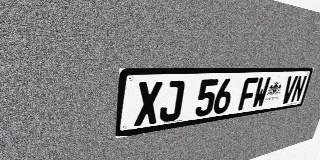5: (194, 79, 219, 117)
6: (212, 78, 235, 115)
F: (238, 77, 259, 111)
J: (158, 80, 185, 123)
N: (290, 75, 307, 103)
V: (280, 76, 298, 104)
W: (251, 77, 271, 109)
X: (134, 81, 163, 127)
